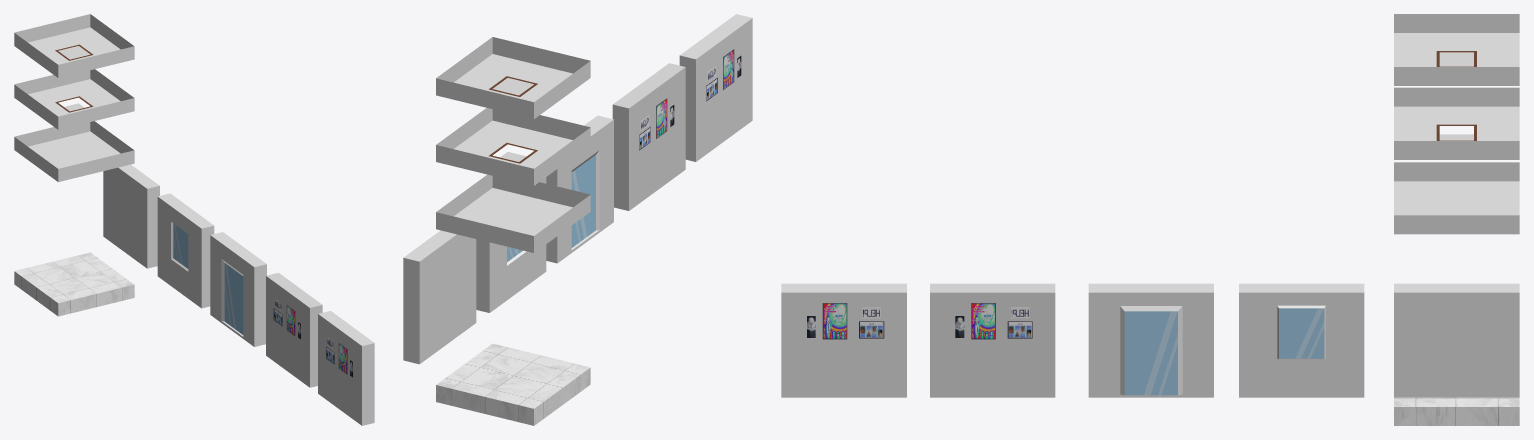
File: Room.fbx
3 views of the same model, side by side, from view 1: azimuth 30°, elevation 25°; view 2: azimuth 150°, elevation 25°; view 3: azimuth 270°, elevation 25° (orthographic). The views are drawn at different scales.
Visible parts, largest first — view 1: Wall_JoinPoster, Wall_door, Floor, ceiling_withlight, Wall_window, Normalceiling, Wall, ceiling_with_lacune, Wall_poster; view 2: ceiling_withlight, Floor, Wall, Wall_JoinPoster, Normalceiling, Wall_poster, ceiling_with_lacune, Wall_door, Wall_window, Poster1; view 3: Wall, Wall_JoinPoster, Wall_door, Wall_window, Wall_poster, Normalceiling, ceiling_withlight, ceiling_with_lacune, Floor, Poster1.
Boxes of the visible parts, <box> form: Wall_JoinPoster: <box>318,311,374,425</box>; Wall_door: <box>210,232,266,346</box>; Floor: <box>14,252,134,316</box>; ceiling_withlight: <box>14,14,134,77</box>; Wall_window: <box>157,193,214,308</box>; Normalceiling: <box>14,121,134,181</box>; Wall: <box>103,164,159,268</box>; ceiling_with_lacune: <box>14,69,134,129</box>; Wall_poster: <box>266,272,322,387</box>; ceiling_withlight: <box>436,37,590,119</box>; Floor: <box>436,343,590,425</box>; Wall: <box>403,230,476,364</box>; Wall_JoinPoster: <box>679,14,752,161</box>; Normalceiling: <box>436,174,590,252</box>; Wall_poster: <box>612,63,685,210</box>; ceiling_with_lacune: <box>436,108,590,185</box>; Wall_door: <box>546,115,613,263</box>; Wall_window: <box>476,177,546,312</box>; Poster1: <box>656,98,667,138</box>; Wall: <box>1394,283,1519,397</box>; Wall_JoinPoster: <box>781,283,906,397</box>; Wall_door: <box>1088,283,1213,397</box>; Wall_window: <box>1239,283,1364,397</box>; Wall_poster: <box>930,283,1055,397</box>; Normalceiling: <box>1394,162,1519,234</box>; ceiling_withlight: <box>1394,14,1519,85</box>; ceiling_with_lacune: <box>1394,87,1519,159</box>; Floor: <box>1394,397,1519,425</box>; Poster1: <box>971,303,995,339</box>.
Size of the model in its own units: 800 by 1892 by 3528.
11 materials, 10 textured.
